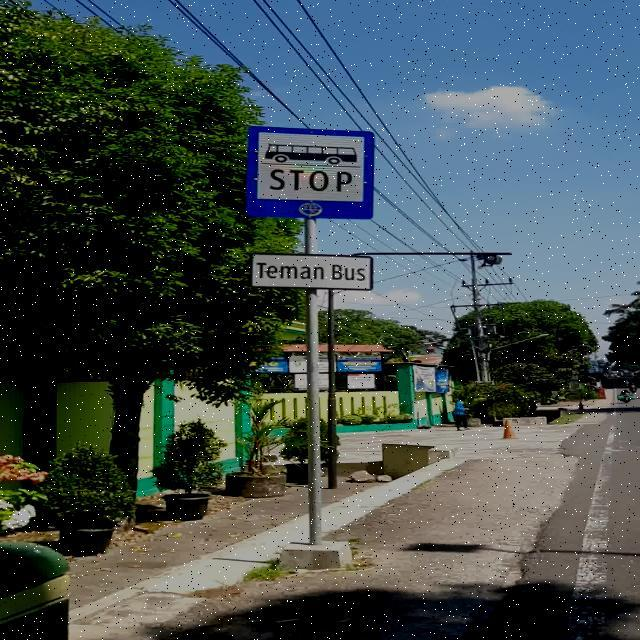Pemberhentian Bus: (245, 126, 376, 220)
